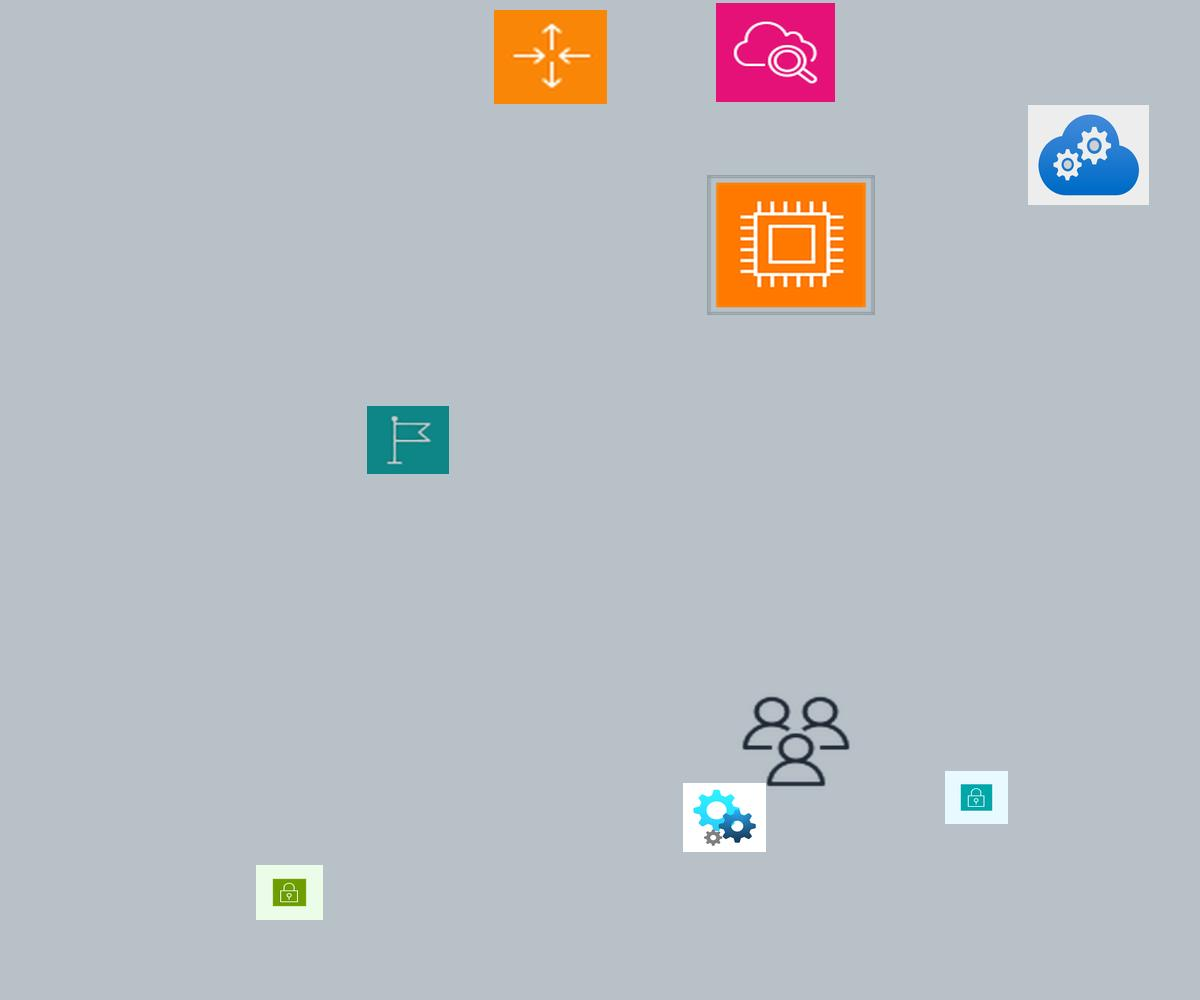AWS-Category_Compute: (707, 175, 875, 315)
AWS-CloudWatch: (716, 3, 835, 102)
AWS-Private-subnet: (945, 771, 1008, 824)
AWS-Public-subnet: (256, 865, 323, 920)
AWS-Region: (367, 406, 449, 474)
AWS-Res_Users: (738, 693, 854, 790)
AWS-Scaling-group: (494, 10, 607, 104)
Azure_api: (683, 783, 766, 852)
Azure_cloud_services: (1028, 105, 1149, 205)
